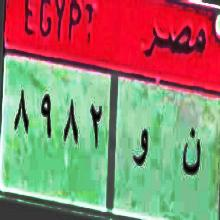2: (88, 100, 104, 153)
8: (12, 84, 31, 137), (63, 95, 80, 154)
9: (39, 88, 54, 150)
noon: (180, 127, 202, 180)
waw: (134, 127, 150, 172)
